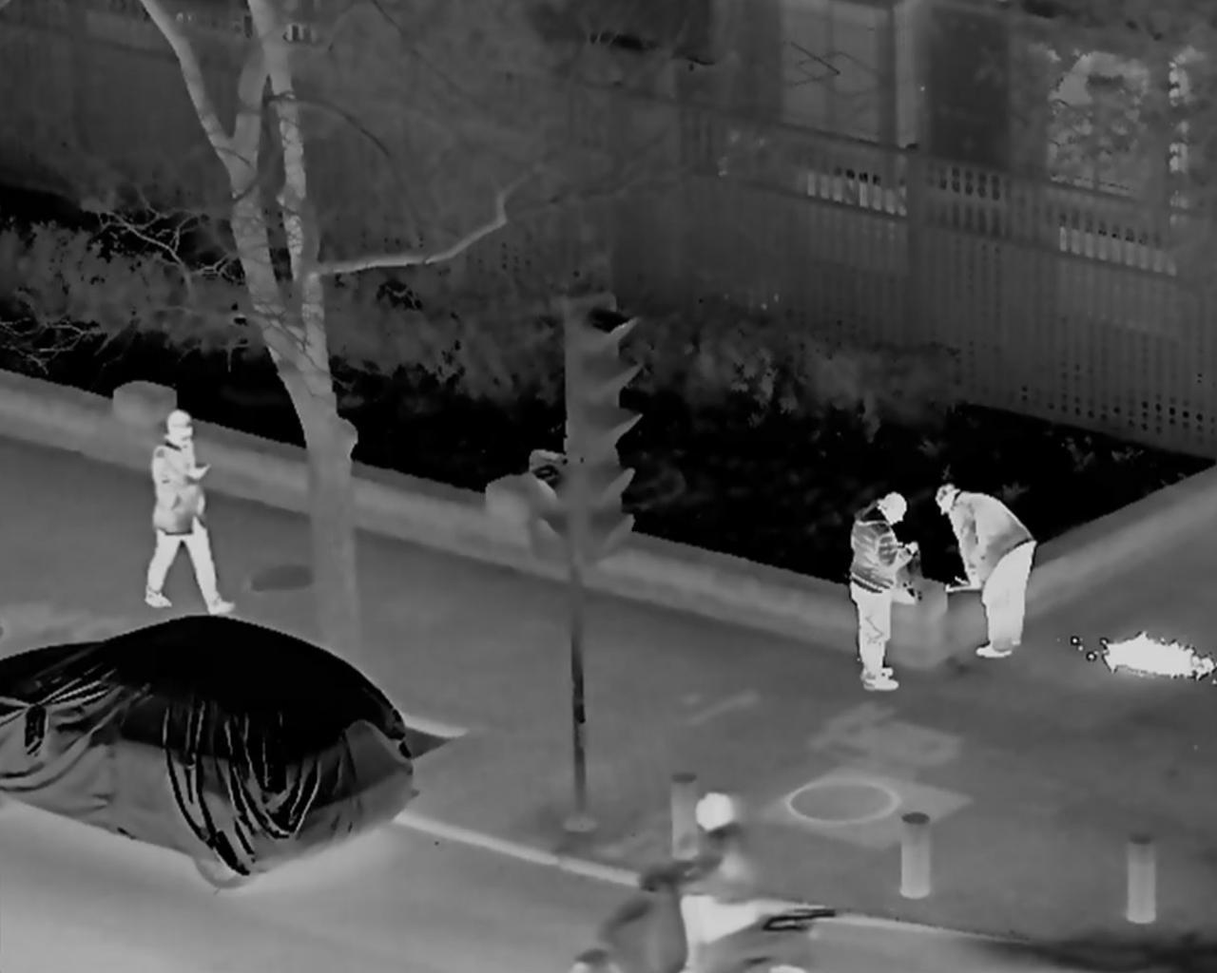person: (148, 411, 234, 623), (936, 482, 1033, 662), (666, 787, 756, 973), (851, 493, 907, 697)
